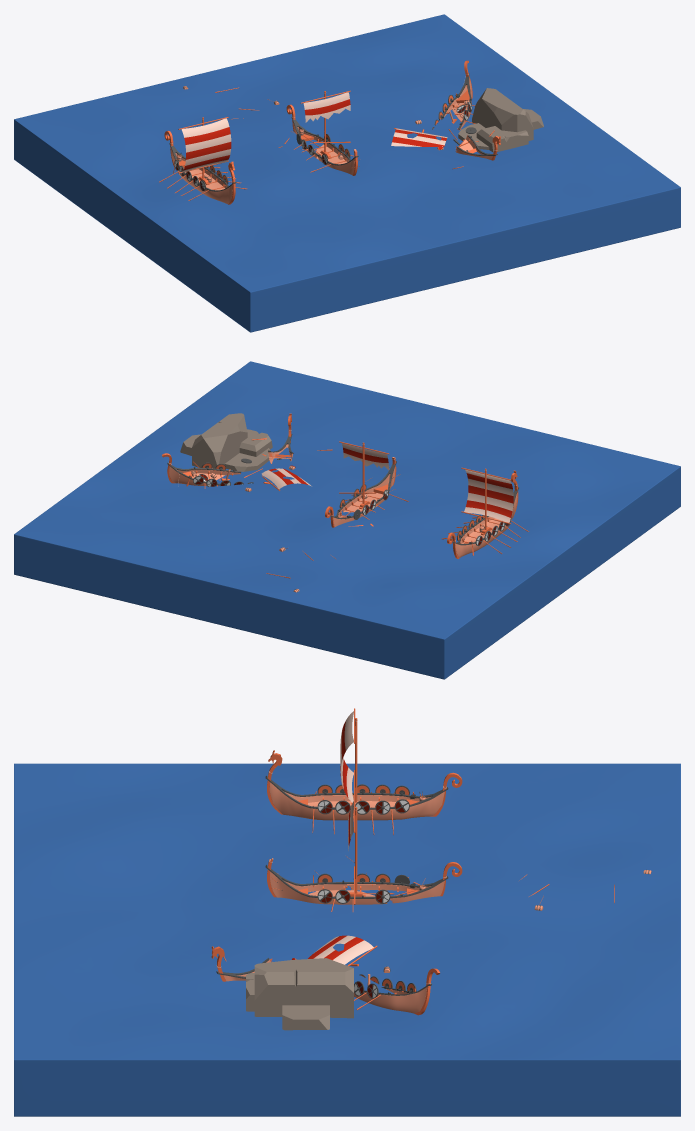
File: Damage2.fbx
The picture shows the model from 3 angles, top to bottom: view 1: azimuth 30°, elevation 25°; view 2: azimuth 150°, elevation 25°; view 3: azimuth 270°, elevation 25°; orthographic projection. The views are drawn at different scales.
Visible parts, largest first — view 1: Box040, Box044, Plane002, Plane006, Line001, Plane007, Line005; view 2: Box040, Box044, Plane002, Line001, Line005, Plane006, Line009, Plane007; view 3: Box040, Box044, Line001, Line005, Plane007, Line009, Object004, Plane002, Object001.
Boxes of the visible parts, <box> form: Box040: <box>14,14,680,332</box>; Box044: <box>458,88,543,152</box>; Plane002: <box>181,118,231,172</box>; Plane006: <box>303,92,350,122</box>; Line001: <box>170,147,232,204</box>; Plane007: <box>391,128,447,146</box>; Line005: <box>293,121,354,175</box>; Box040: <box>14,361,680,679</box>; Box044: <box>180,413,272,471</box>; Plane002: <box>464,469,513,522</box>; Line001: <box>455,493,517,557</box>; Line005: <box>333,467,395,526</box>; Plane006: <box>342,443,388,470</box>; Line009: <box>169,466,240,485</box>; Plane007: <box>261,468,311,489</box>; Box040: <box>14,763,680,1116</box>; Box044: <box>246,958,353,1030</box>; Line001: <box>269,782,444,820</box>; Line005: <box>270,871,444,904</box>; Plane007: <box>308,935,373,964</box>; Line009: <box>354,987,427,1013</box>; Object004: <box>265,865,448,898</box>; Plane002: <box>340,711,353,802</box>; Object001: <box>265,776,448,809</box>.
Bounding box in the file's own units: 3661 × 880 × 3483.
